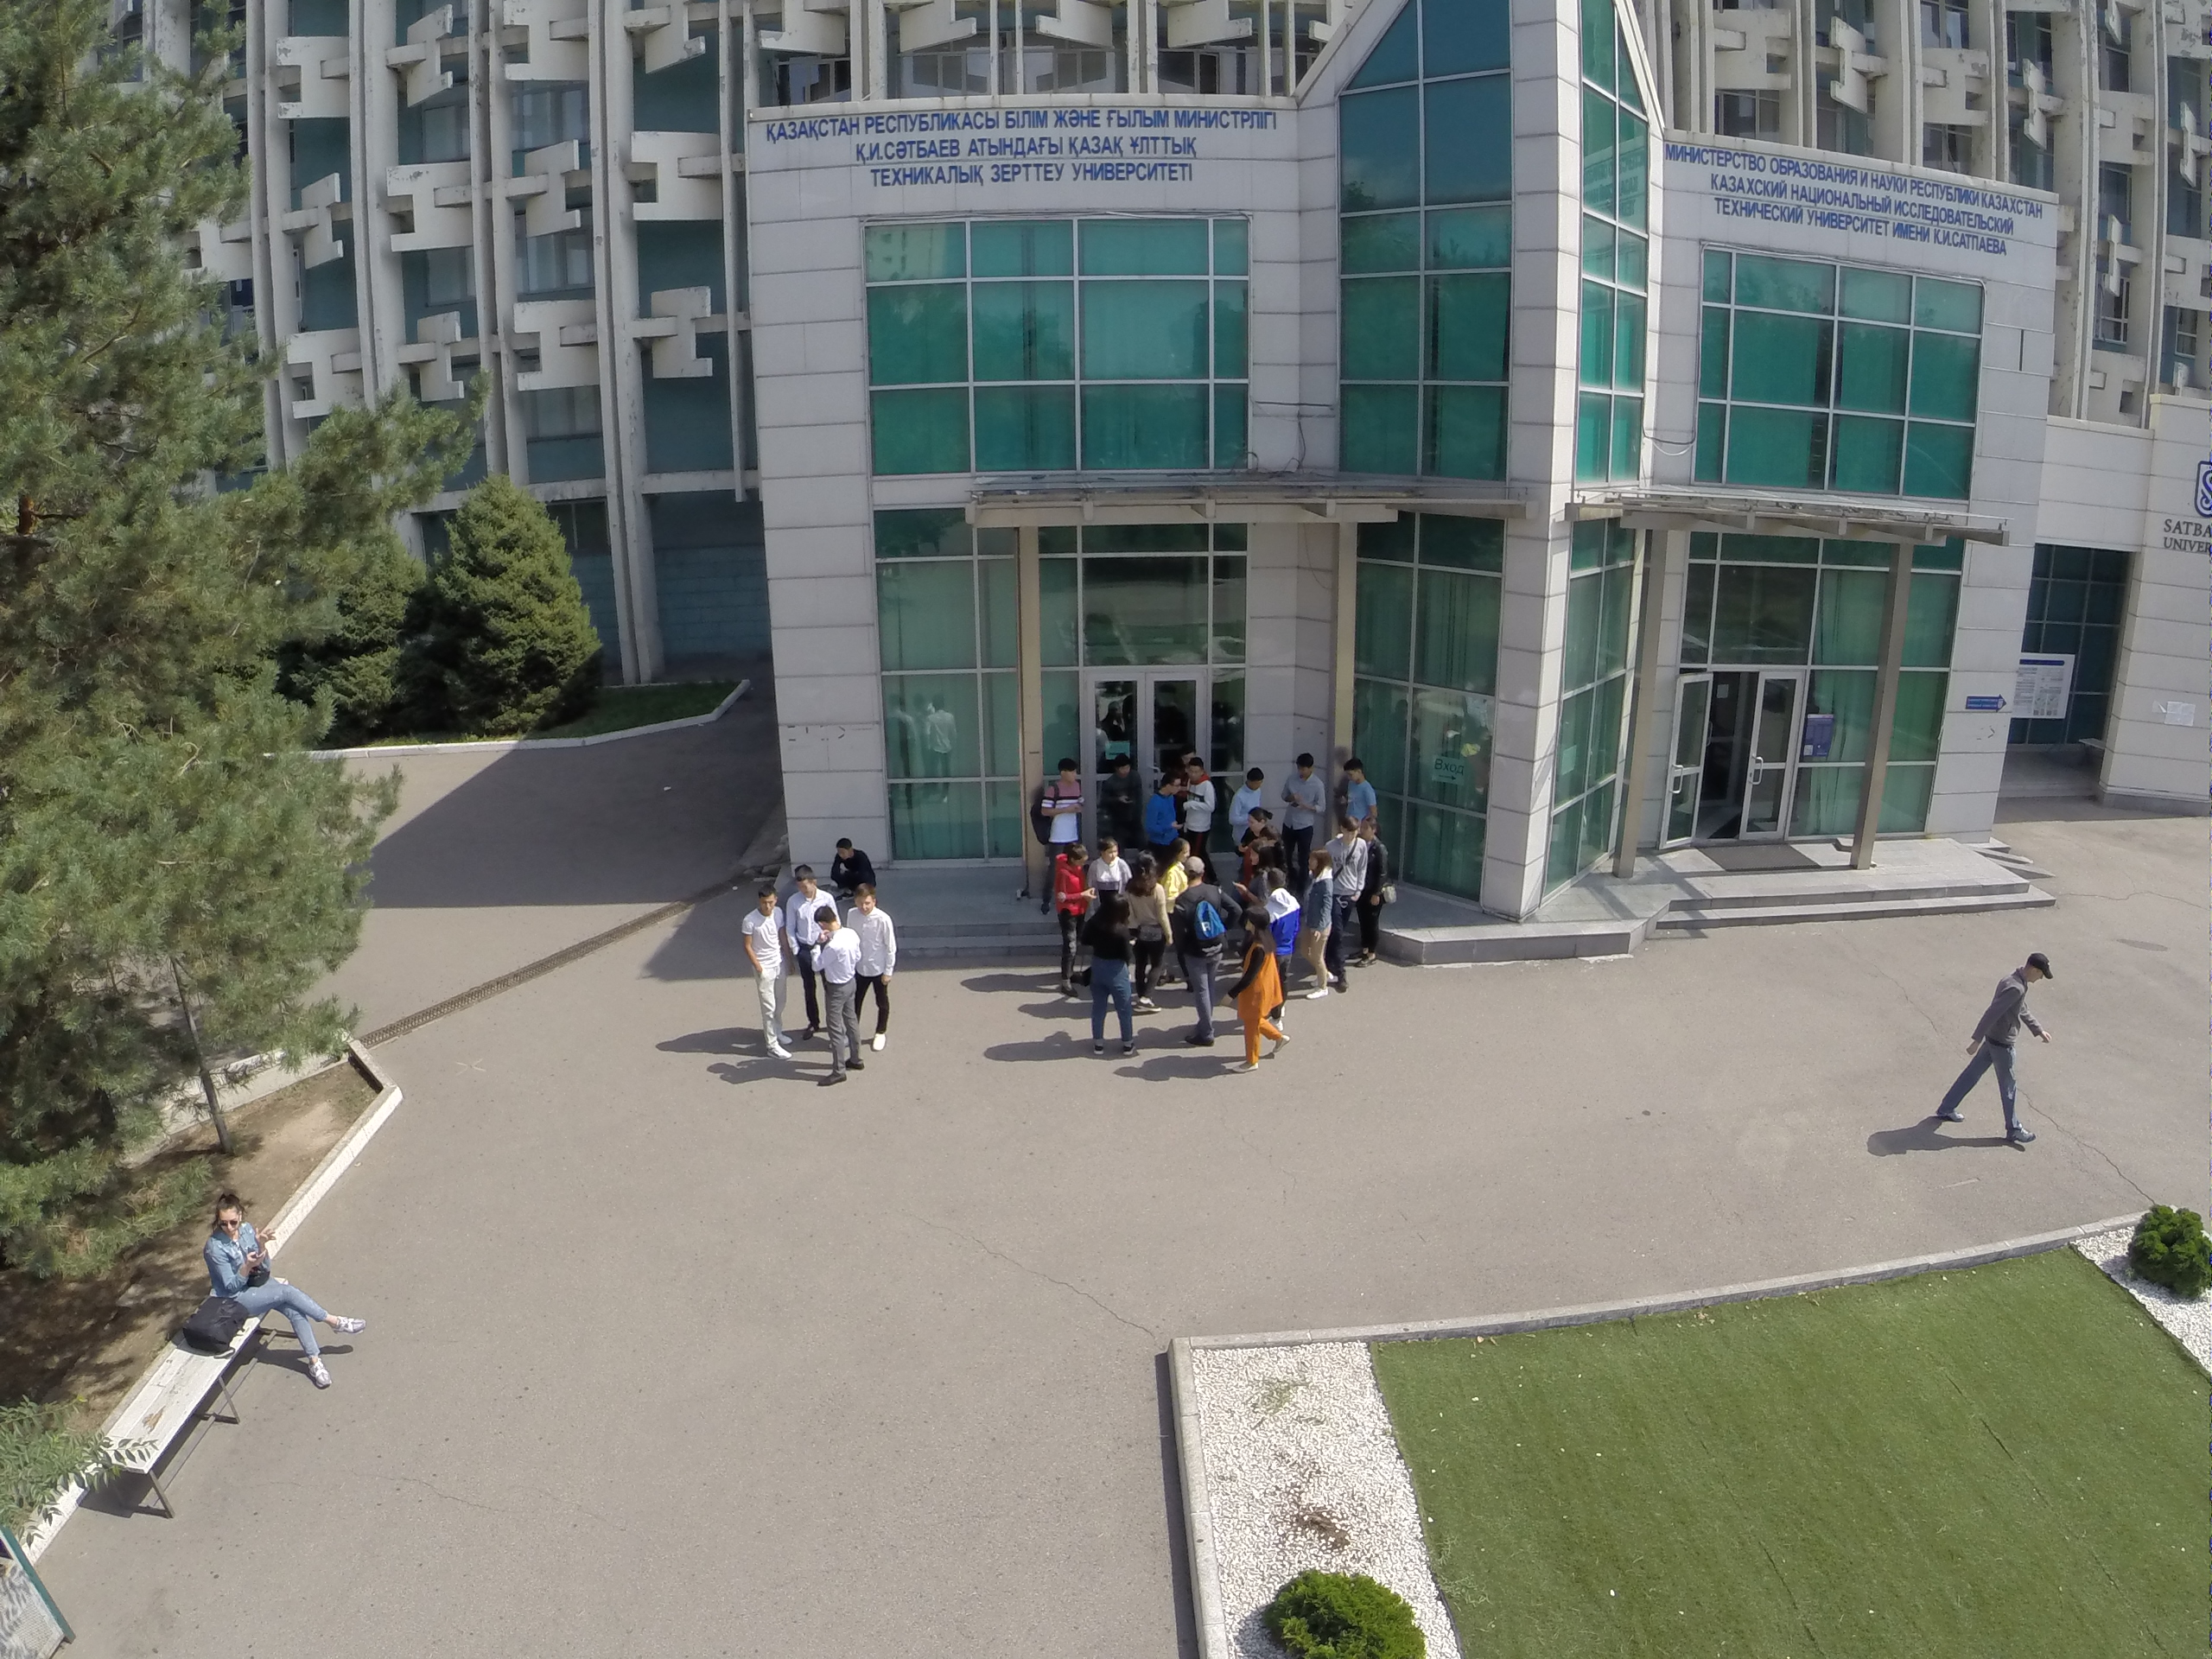person: (199, 1187, 366, 1395), (1939, 931, 2059, 1154), (800, 895, 868, 1094), (1225, 900, 1297, 1069), (728, 879, 791, 1066), (1086, 887, 1150, 1073), (1179, 855, 1231, 1052), (1353, 812, 1405, 988), (1296, 845, 1344, 1007), (1049, 843, 1099, 994), (1317, 806, 1368, 950), (860, 882, 896, 1069), (1278, 747, 1329, 874), (1266, 859, 1300, 1026), (1034, 748, 1088, 842), (1169, 753, 1220, 849), (1095, 752, 1142, 854), (1145, 766, 1184, 856), (785, 868, 823, 957), (1338, 760, 1380, 836), (828, 831, 870, 894), (1092, 835, 1135, 887), (1233, 767, 1267, 830)
